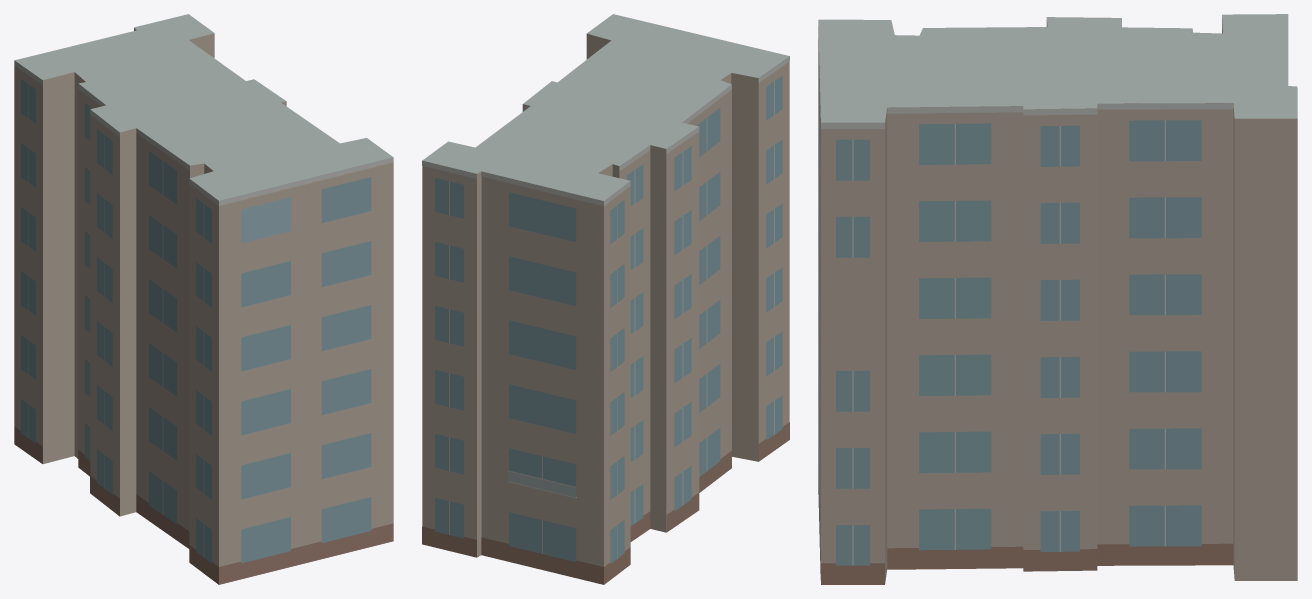
The model's file is survey-upis-32726680.glb.
3 renders of one model, left to right at view 1: azimuth 30°, elevation 25°; view 2: azimuth 150°, elevation 25°; view 3: azimuth 270°, elevation 25°, orthographic. The views are drawn at different scales.
Parts seen in each view (by area): view 1: survey-upis-32726680.tmp; view 2: survey-upis-32726680.tmp; view 3: survey-upis-32726680.tmp.
Boxes of the visible parts, box(x1,y1,x2,y2) form: survey-upis-32726680.tmp: box(14, 14, 393, 584); survey-upis-32726680.tmp: box(422, 14, 789, 584); survey-upis-32726680.tmp: box(818, 14, 1297, 584).
Size of the model in its own units: 9.19 by 18.2 by 17.12.
